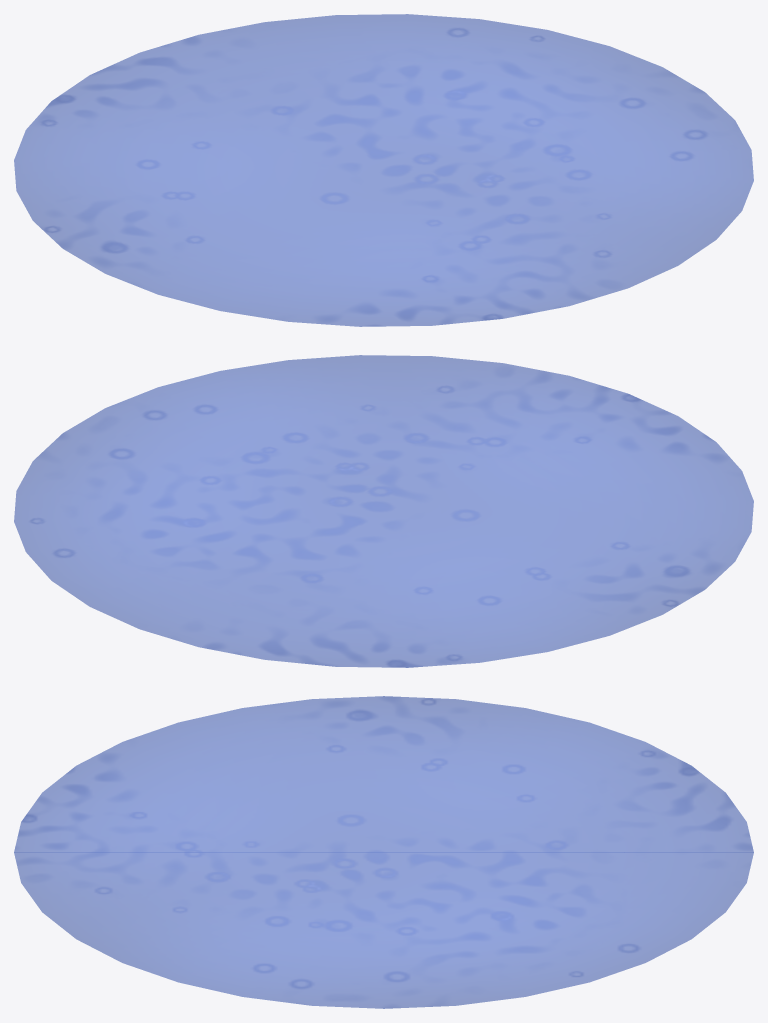
The model's file is mm7_deco_7dec32_liquid_blue.glb.
The picture shows the model from 3 angles, top to bottom: view 1: azimuth 30°, elevation 25°; view 2: azimuth 150°, elevation 25°; view 3: azimuth 270°, elevation 25°; orthographic projection.
Visible parts, largest first — view 1: Liquid; view 2: Liquid; view 3: Liquid.
Boxes of the visible parts, x1=… form: Liquid: x1=14, y1=14, x2=753, y2=326; Liquid: x1=14, y1=355, x2=753, y2=667; Liquid: x1=14, y1=696, x2=753, y2=1008.
Bounding box in the file's own units: 0.727 × 0 × 0.727.
1 material, 1 textured.
